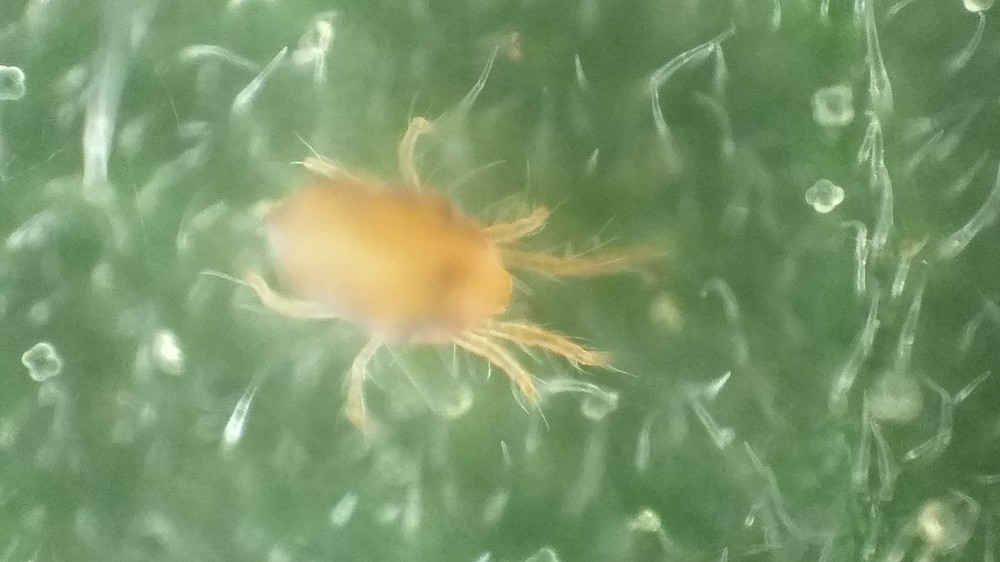Aracnido Rojo: (226, 105, 697, 456)
